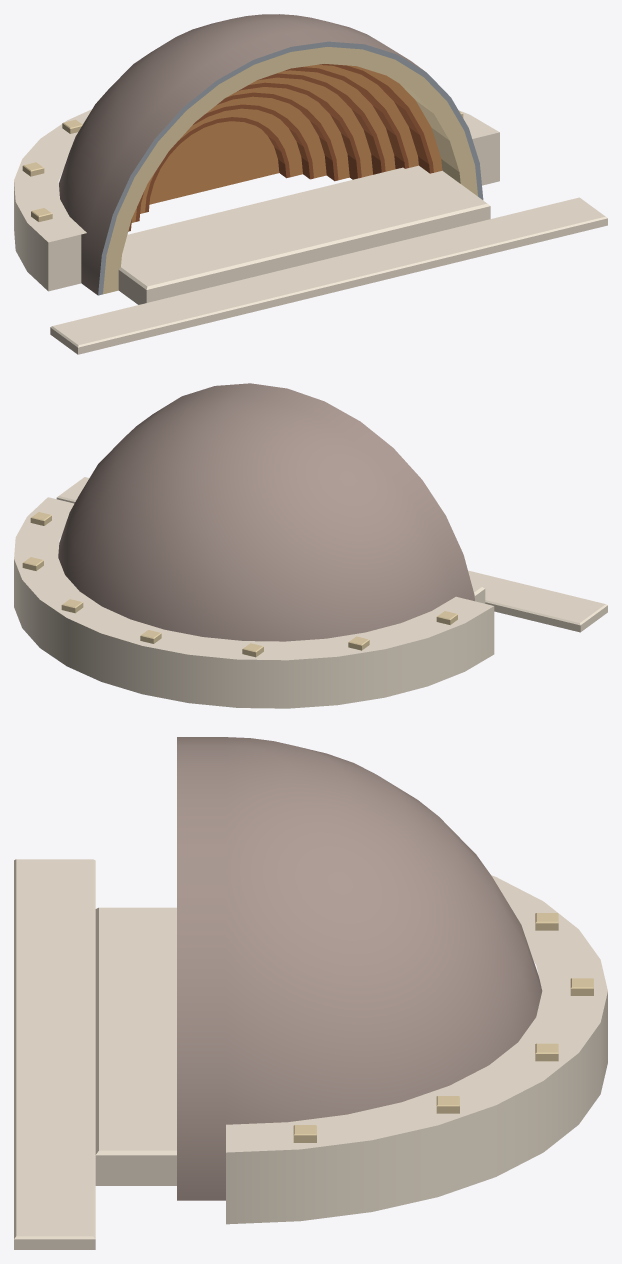
The model's file is bos-hatch-shell.glb.
3 renders of one model, top to bottom at view 1: azimuth 30°, elevation 25°; view 2: azimuth 150°, elevation 25°; view 3: azimuth 270°, elevation 25°, orthographic. The views are drawn at different scales.
Parts seen in each view (by area): view 1: Hatch Memorial Shell; view 2: Hatch Memorial Shell; view 3: Hatch Memorial Shell.
Part boxes in pixels (box(x1,y1,x2,y2)): Hatch Memorial Shell: box(14, 14, 607, 354); Hatch Memorial Shell: box(14, 383, 607, 708); Hatch Memorial Shell: box(14, 737, 607, 1249).
Size of the model in its own units: 38.5 by 14 by 25.5.
